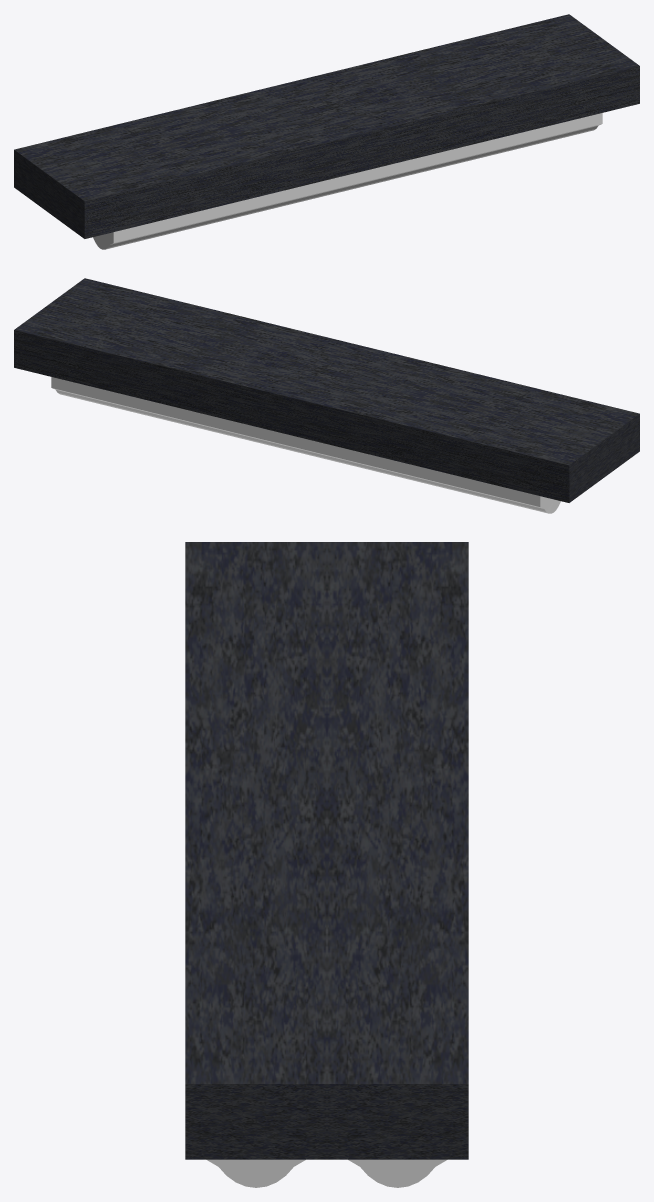
File: light.fbx
3 renders of one model, top to bottom at view 1: azimuth 30°, elevation 25°; view 2: azimuth 150°, elevation 25°; view 3: azimuth 270°, elevation 25°, orthographic. The views are drawn at different scales.
Parts seen in each view (by area): view 1: light; view 2: light; view 3: light.
Part boxes in pixels (x1,y1,x2,y2): light: [14, 14, 639, 249]; light: [14, 278, 639, 513]; light: [185, 542, 468, 1187].
Size of the model in its own units: 200 by 23.48 by 44.14.
